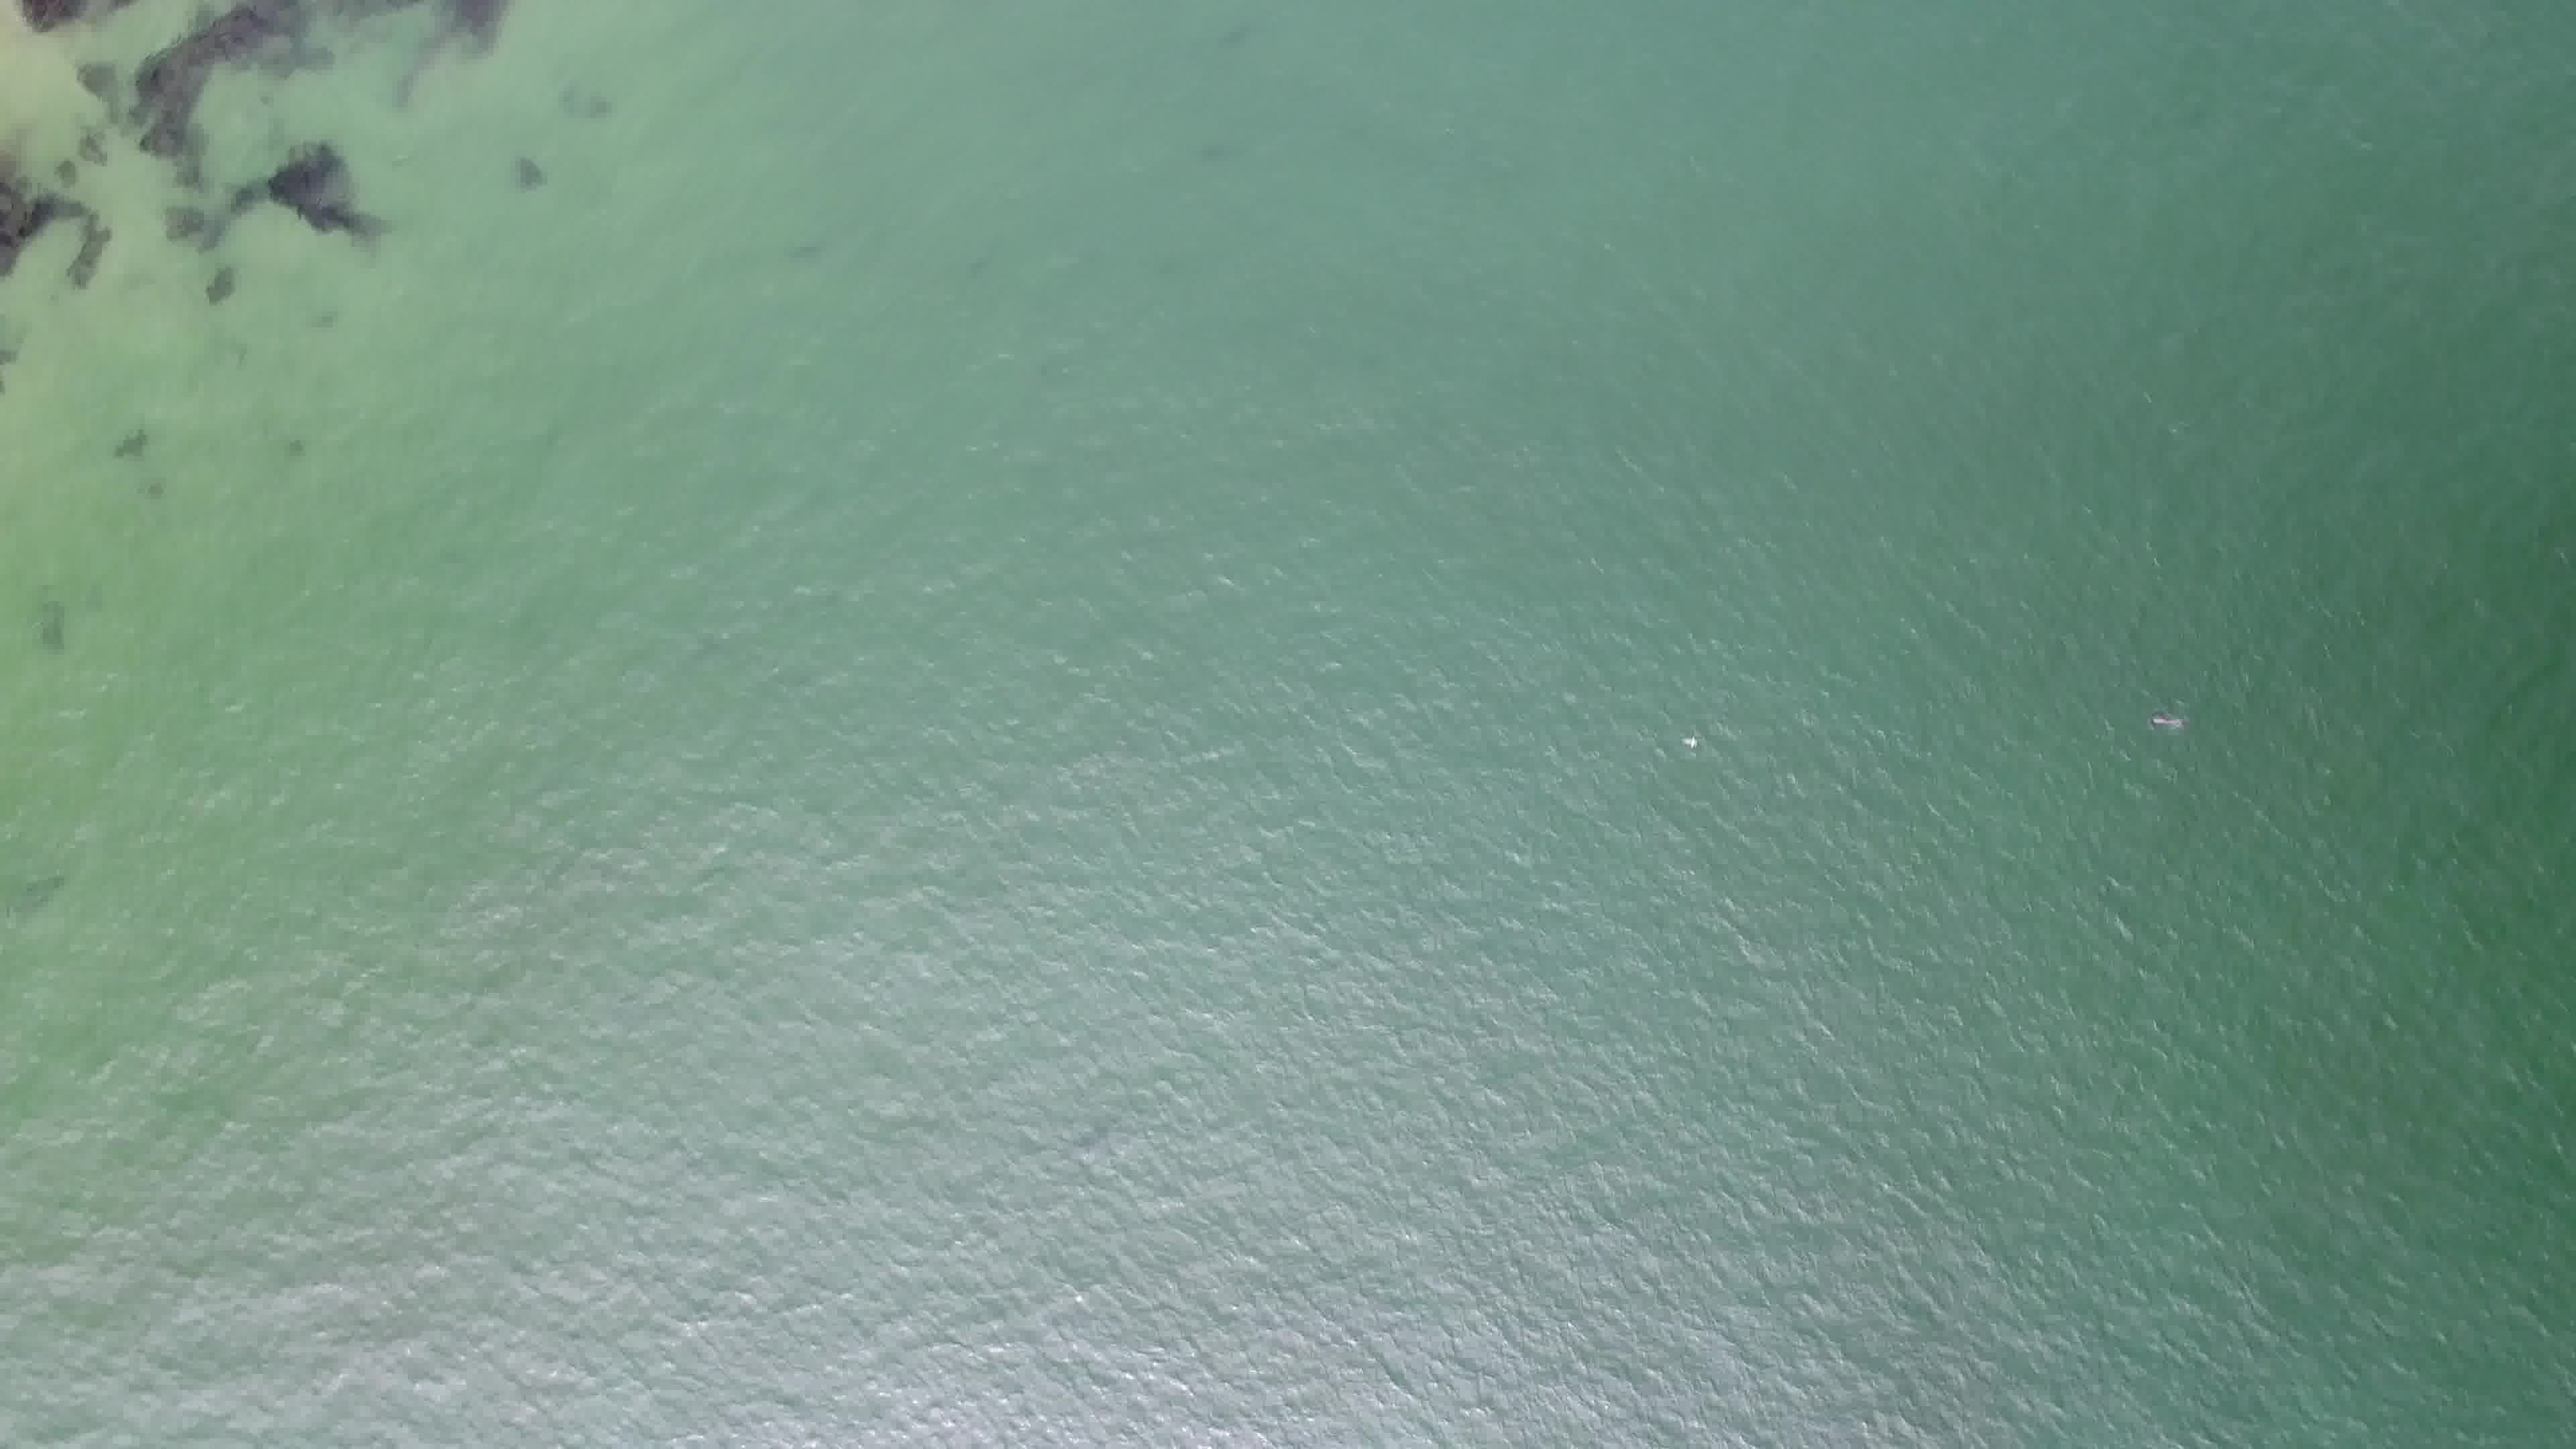dolphin: (2125, 690, 2217, 741)
